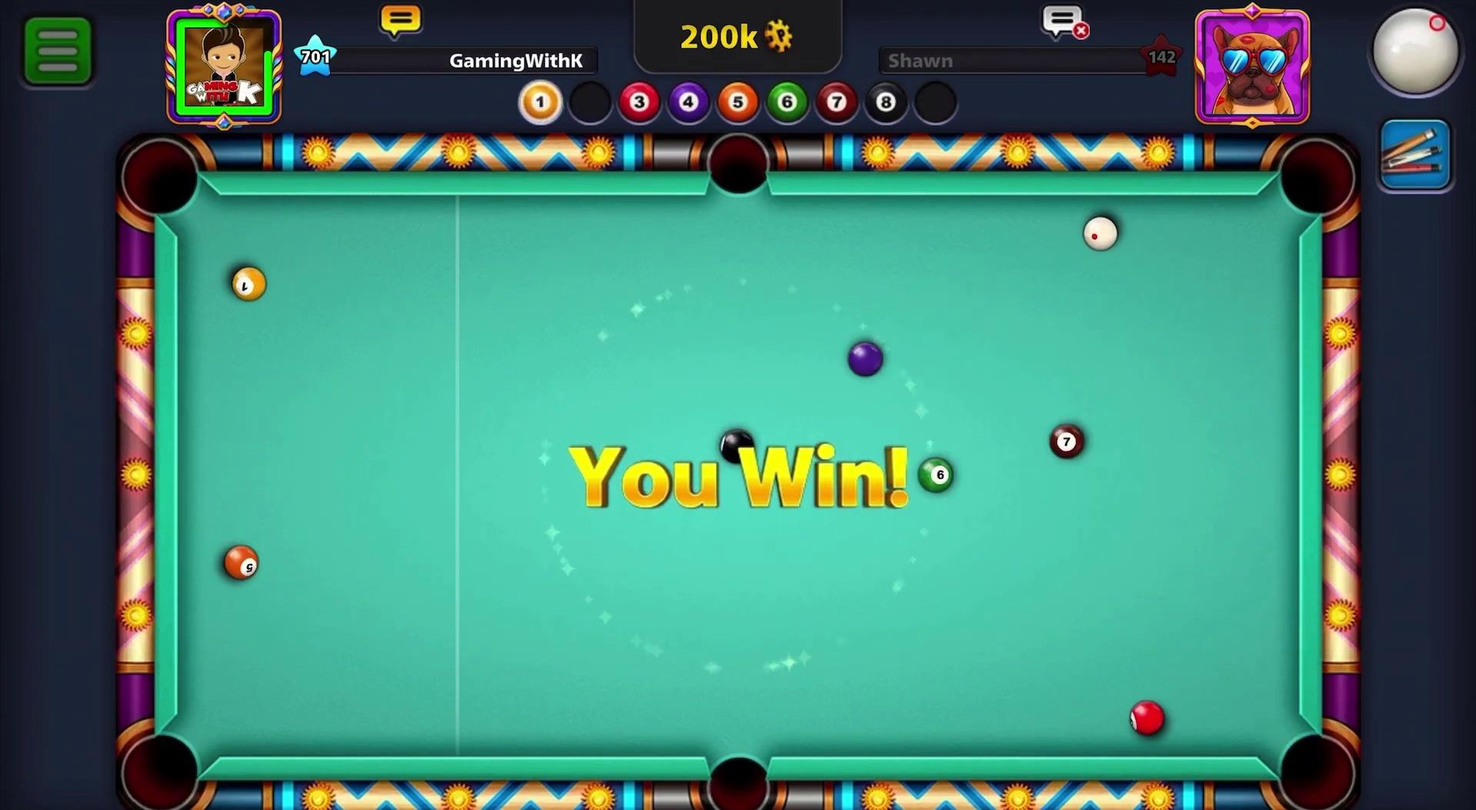Ball: (841, 336, 890, 386), (228, 260, 270, 310), (714, 422, 758, 466), (1046, 420, 1088, 463), (222, 541, 262, 586), (1124, 697, 1171, 735), (916, 453, 955, 497)
Hole: (109, 127, 218, 237), (1263, 713, 1366, 809), (1267, 131, 1364, 232), (112, 722, 208, 809), (688, 736, 784, 809), (700, 124, 780, 205)
Play_Area: (175, 194, 1304, 761)
Spin: (1342, 0, 1474, 114)
White: (1078, 211, 1124, 257)
